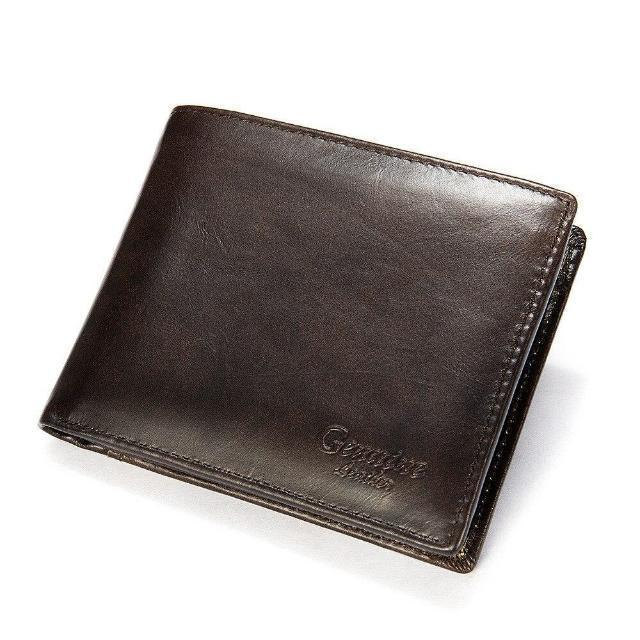wallet: (34, 100, 590, 584)
